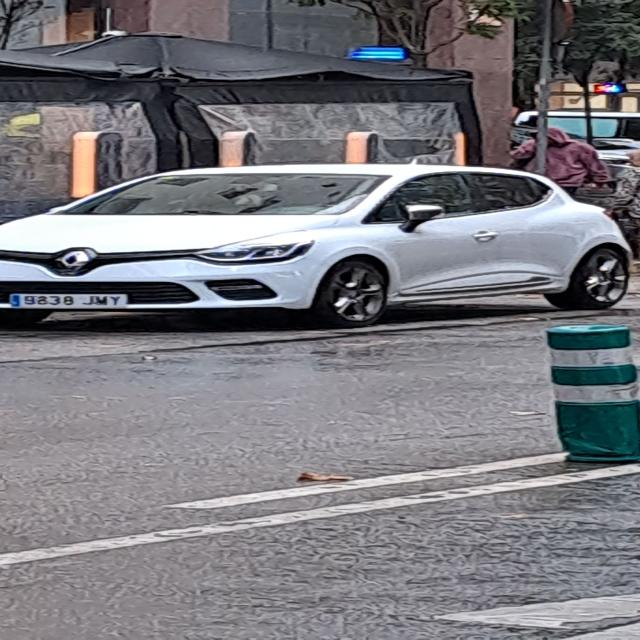license_plate-34Td: (9, 294, 128, 310)
